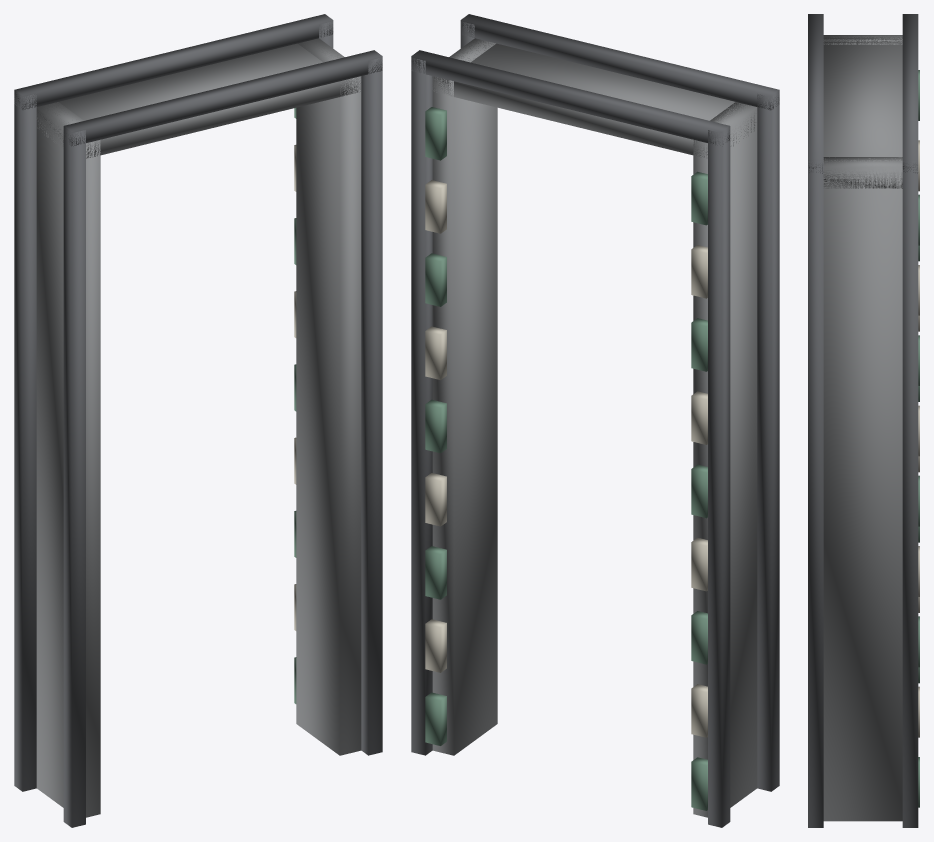
The model's file is doorway_tile_return_w76_h200_d24.glb.
The picture shows the model from 3 angles, left to right: view 1: azimuth 30°, elevation 25°; view 2: azimuth 150°, elevation 25°; view 3: azimuth 270°, elevation 25°; orthographic projection. The views are drawn at different scales.
Visible parts, largest first — view 1: world; view 2: world; view 3: world.
Part boxes in pixels (bbox=[...]): world: bbox=[14, 14, 382, 827]; world: bbox=[411, 14, 779, 827]; world: bbox=[808, 14, 919, 827].
Bounding box in the file's own units: 0.9868 × 2.11 × 0.3207.
